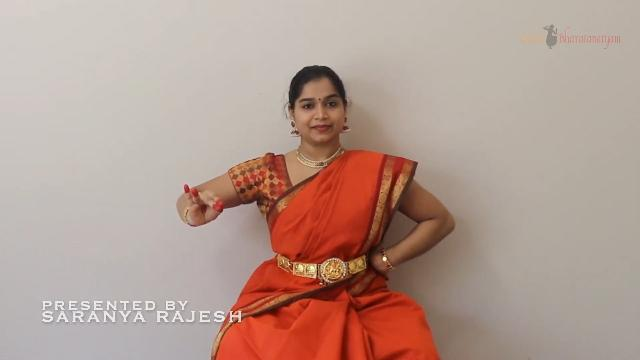katak: (158, 174, 240, 244)
